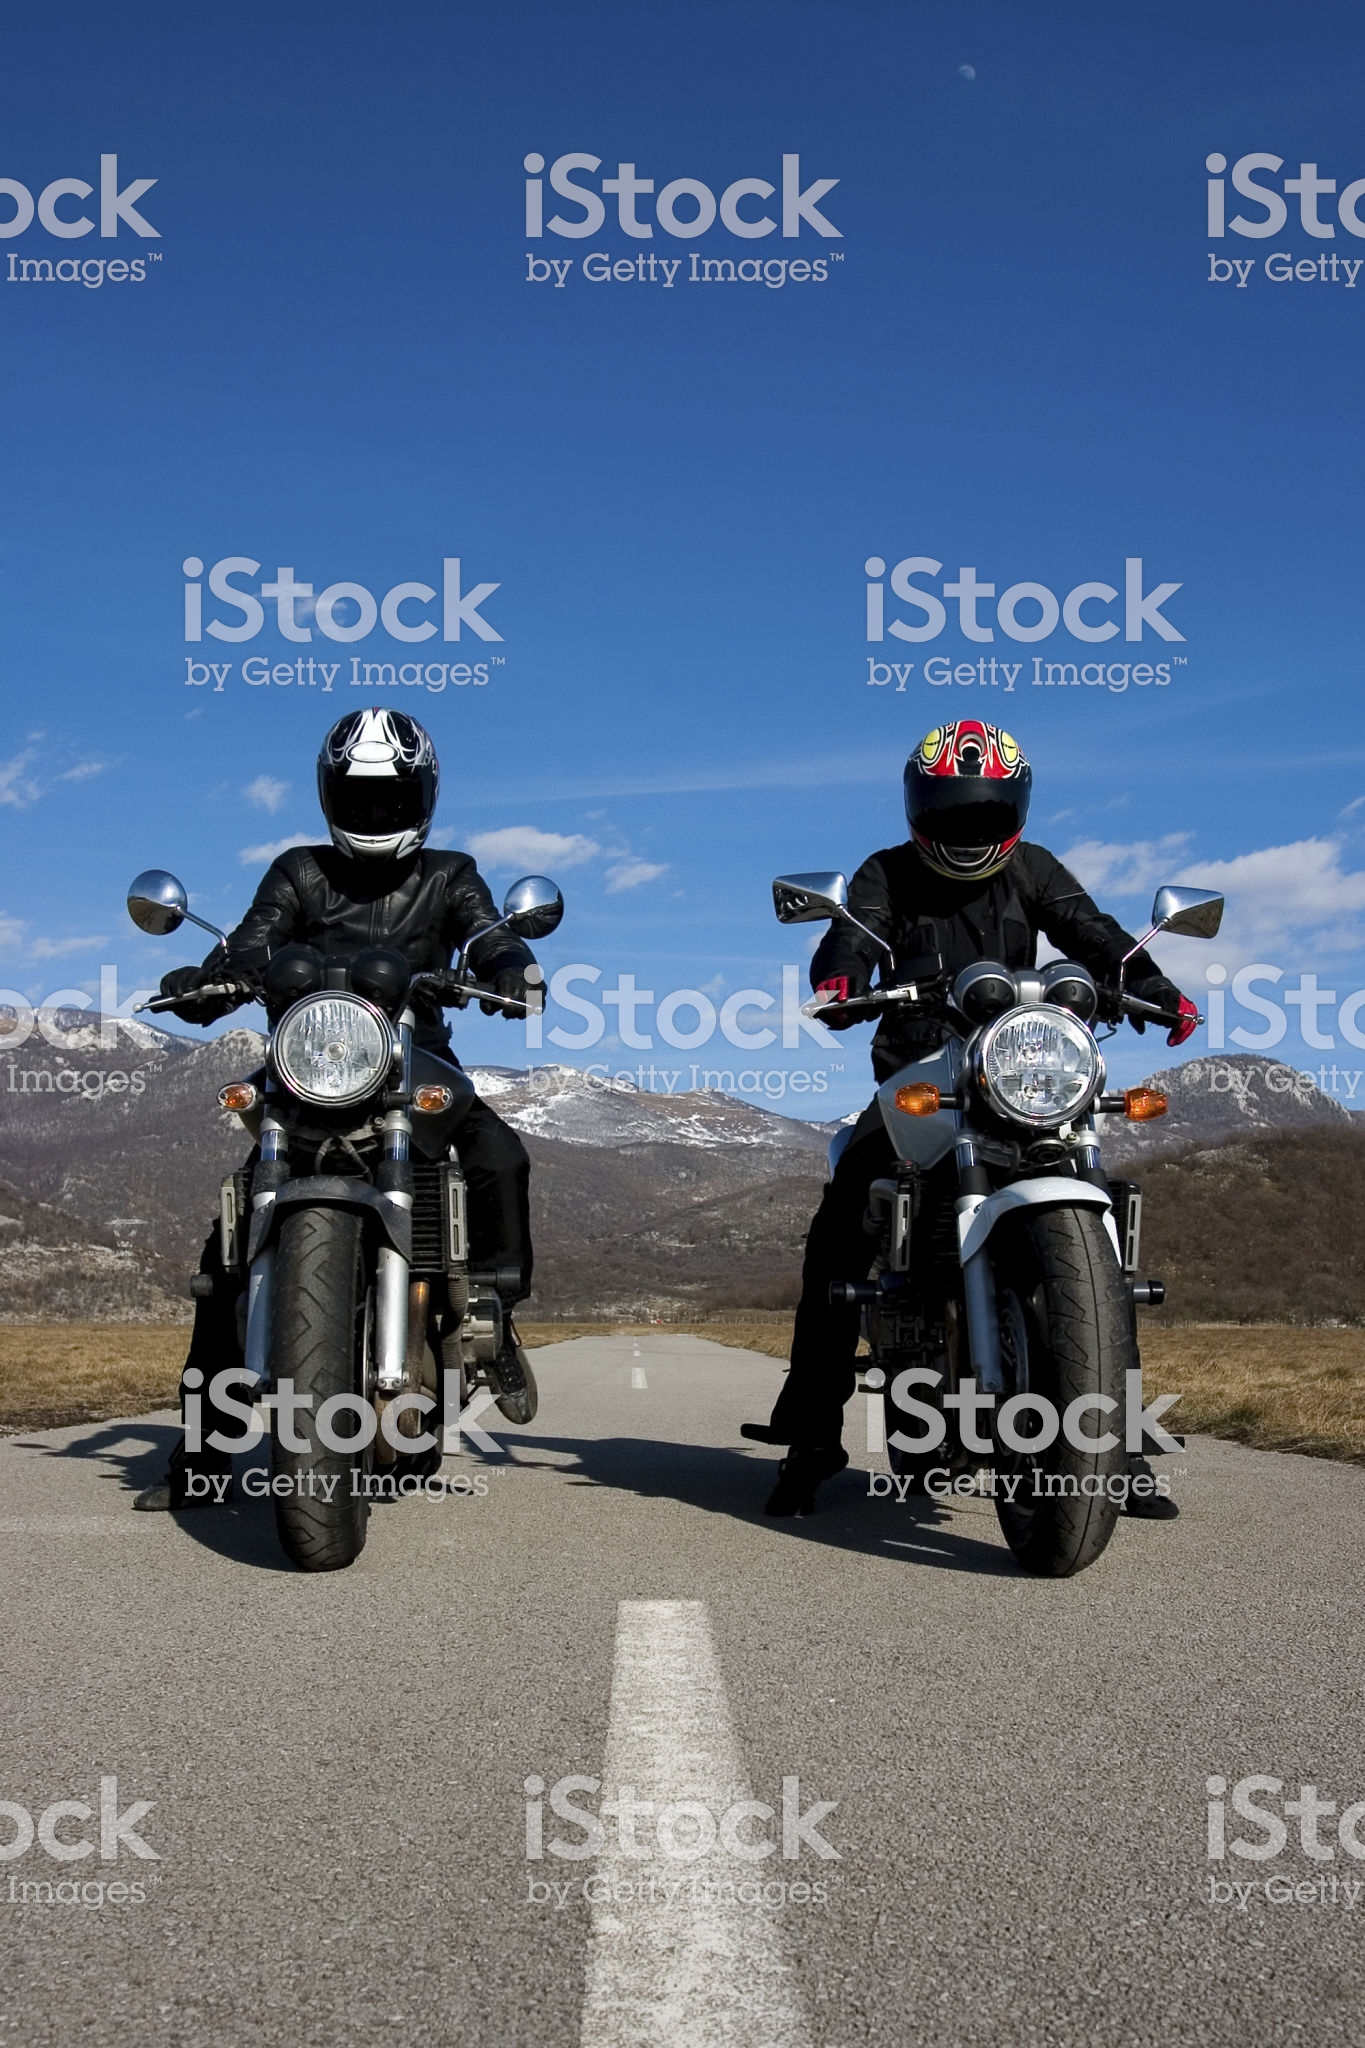helmet: (302, 694, 463, 853), (917, 716, 1034, 876)
